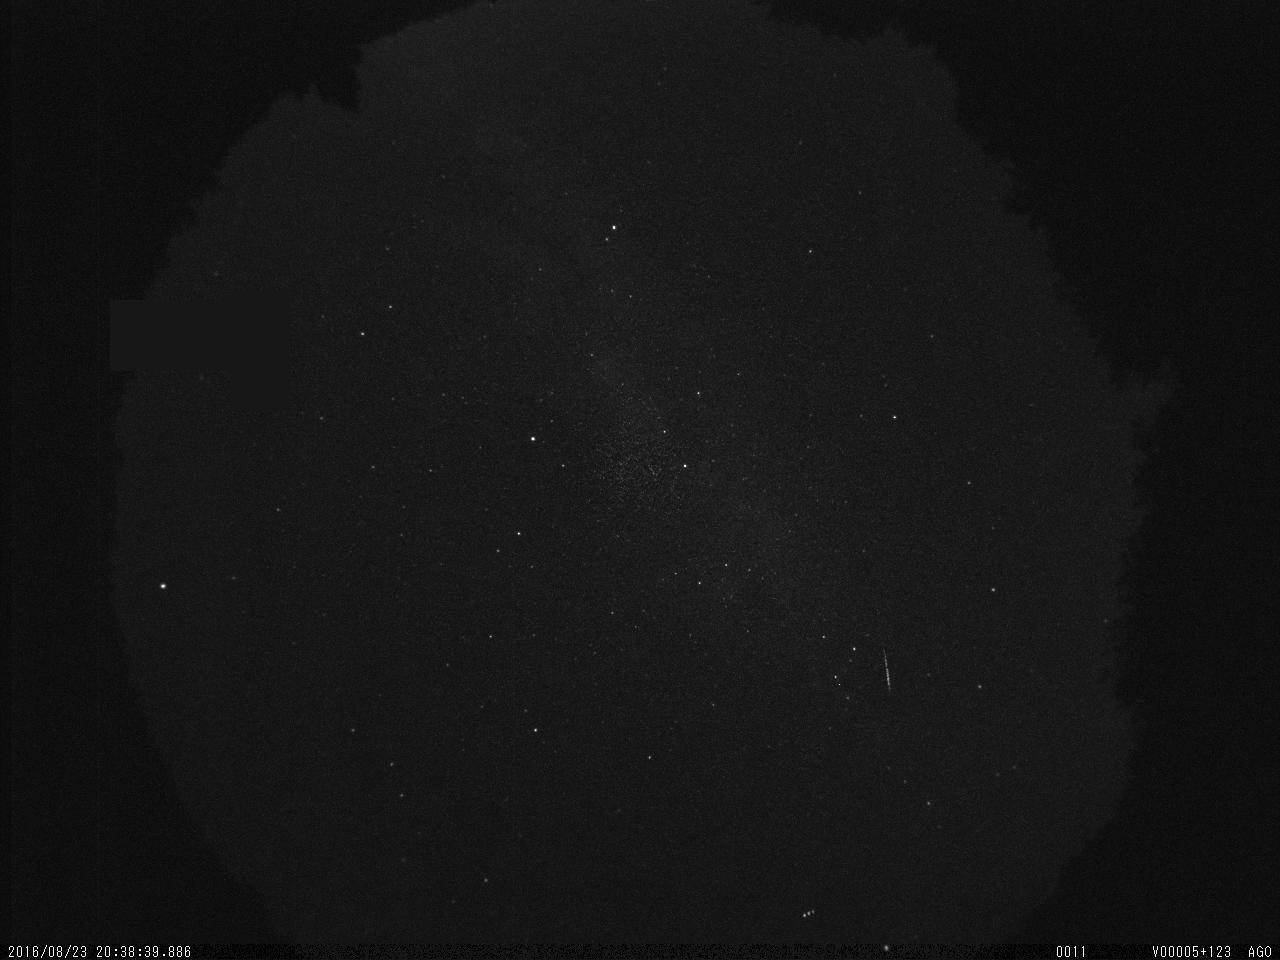Meteor: (876, 638, 895, 696)
